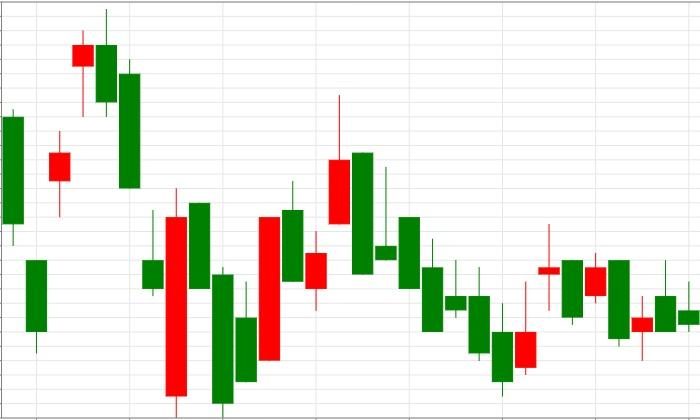inverse_hammer_rise: (352, 152, 536, 396)
